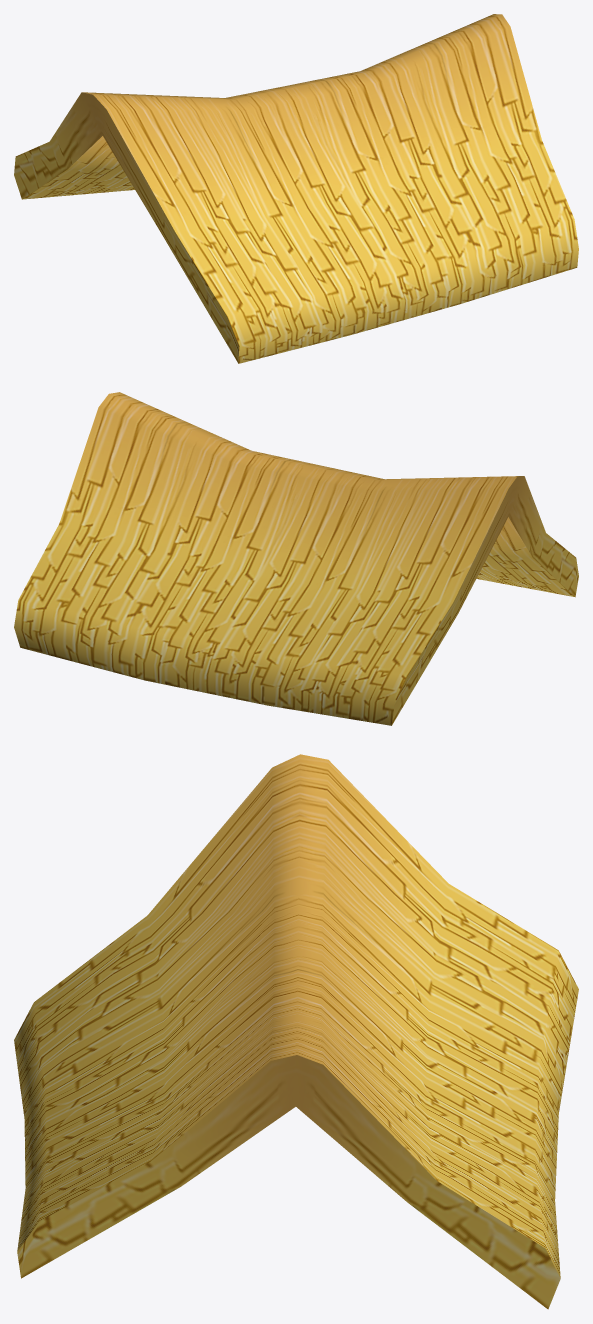
The model's file is TikiHutRoof.fbx.
The picture shows the model from 3 angles, top to bottom: view 1: azimuth 30°, elevation 25°; view 2: azimuth 150°, elevation 25°; view 3: azimuth 270°, elevation 25°; orthographic projection. The views are drawn at different scales.
Parts seen in each view (by area): view 1: TikiHut_Roof; view 2: TikiHut_Roof; view 3: TikiHut_Roof.
Part boxes in pixels (x1,y1,x2,y2): TikiHut_Roof: (14,14,578,363); TikiHut_Roof: (14,392,578,725); TikiHut_Roof: (14,754,578,1309).
Size of the model in its own units: 289 by 140 by 250.
